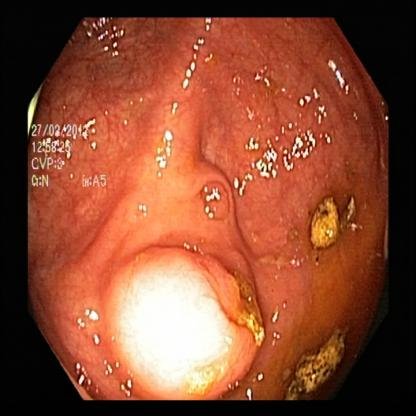Labels: (26, 109, 113, 200)
Polyps: (107, 238, 258, 402), (282, 185, 369, 276)
